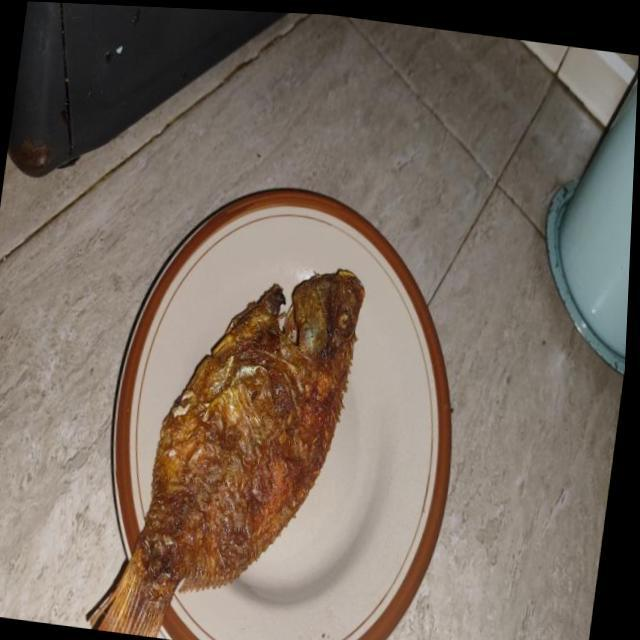ikan_mujair: (99, 268, 364, 636)
